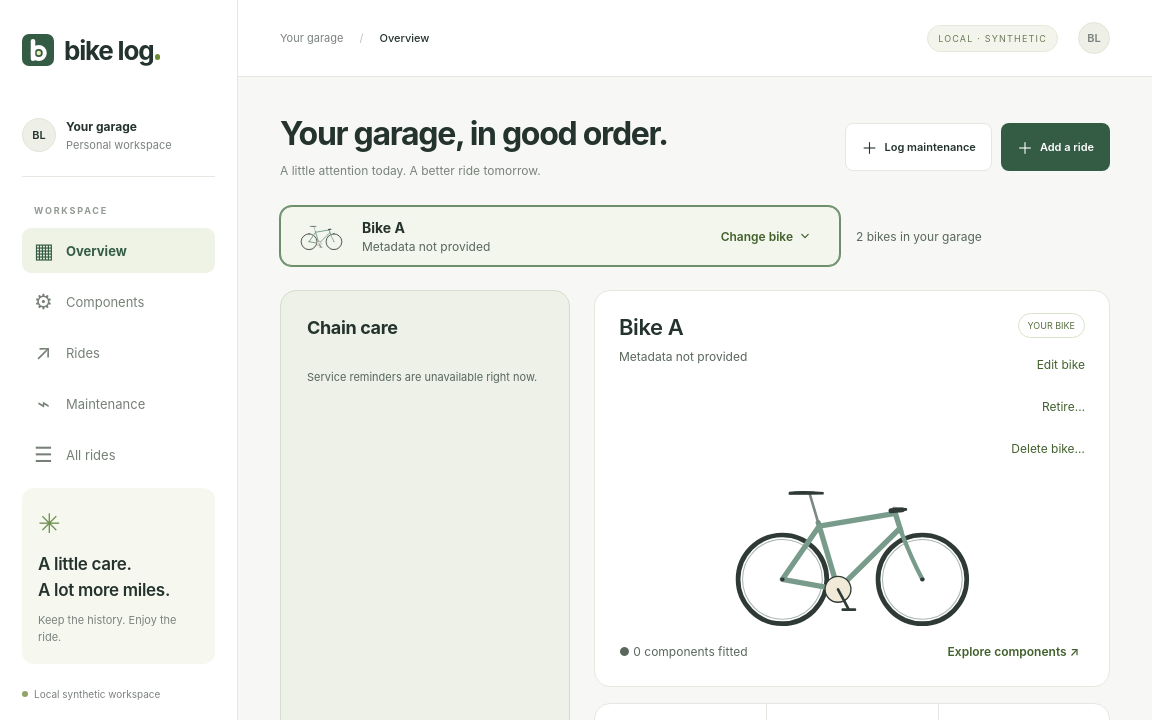
garage › dirtyNavigationRetainsFormUntilExplicitDiscard
The width and height of the screenshot is (1152, 720).
Expected: the heading "Bike A" is shown, x1=619 y1=314 x2=683 y2=340
Click the button "Bike A Metadata not provided Change bike" at point(322, 236), box x1=280 y1=206 x2=840 y2=266
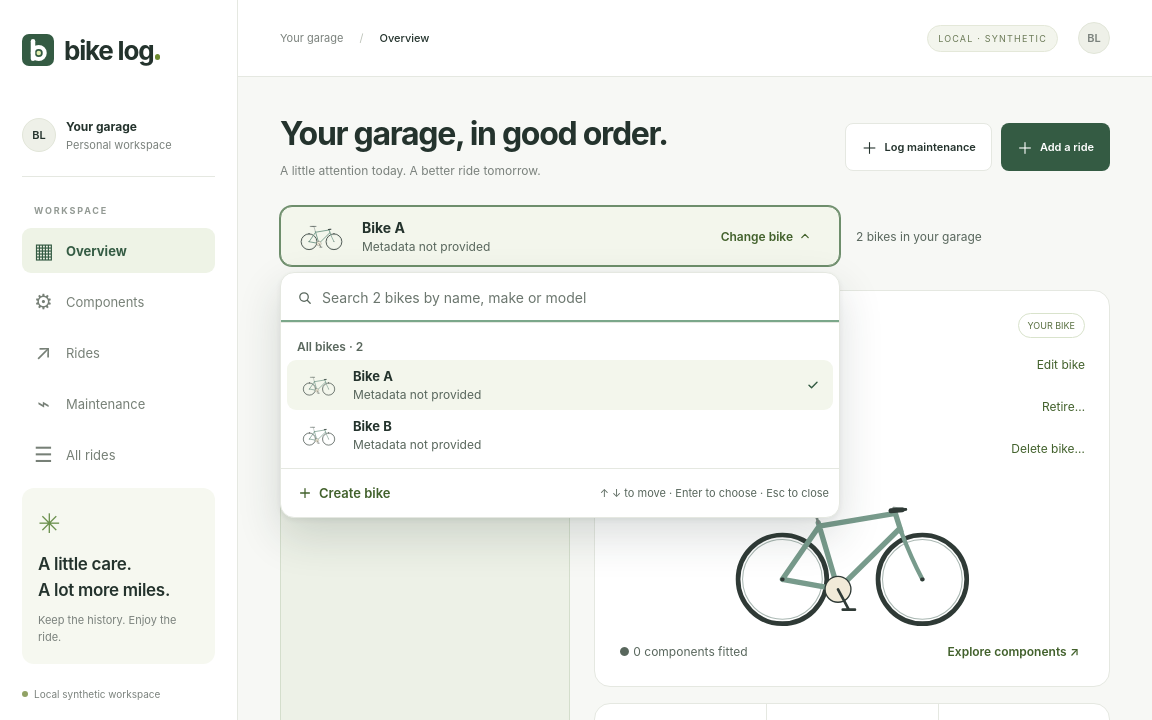
Click the button "Bike B Metadata not provided" at point(319, 435), box x1=287 y1=410 x2=833 y2=460
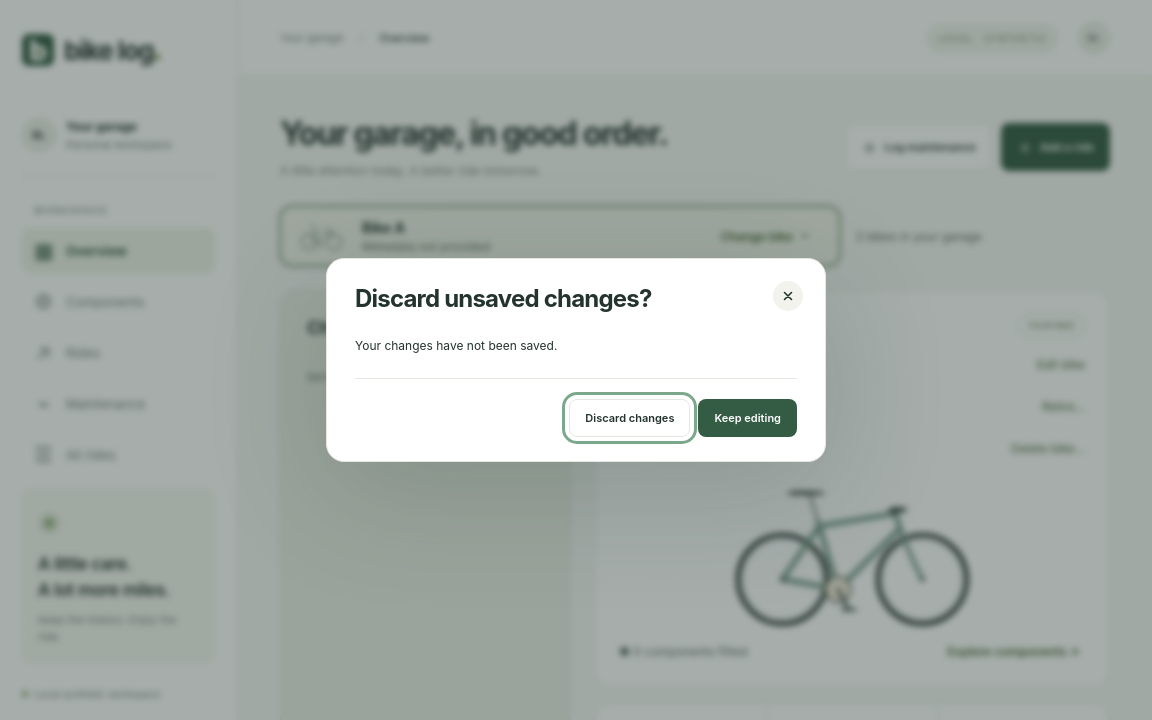
Expected: the dialog "Discard unsaved changes?" is shown, x1=326 y1=258 x2=826 y2=462
Click the button "Keep editing" at point(748, 418), box x1=698 y1=399 x2=797 y2=437
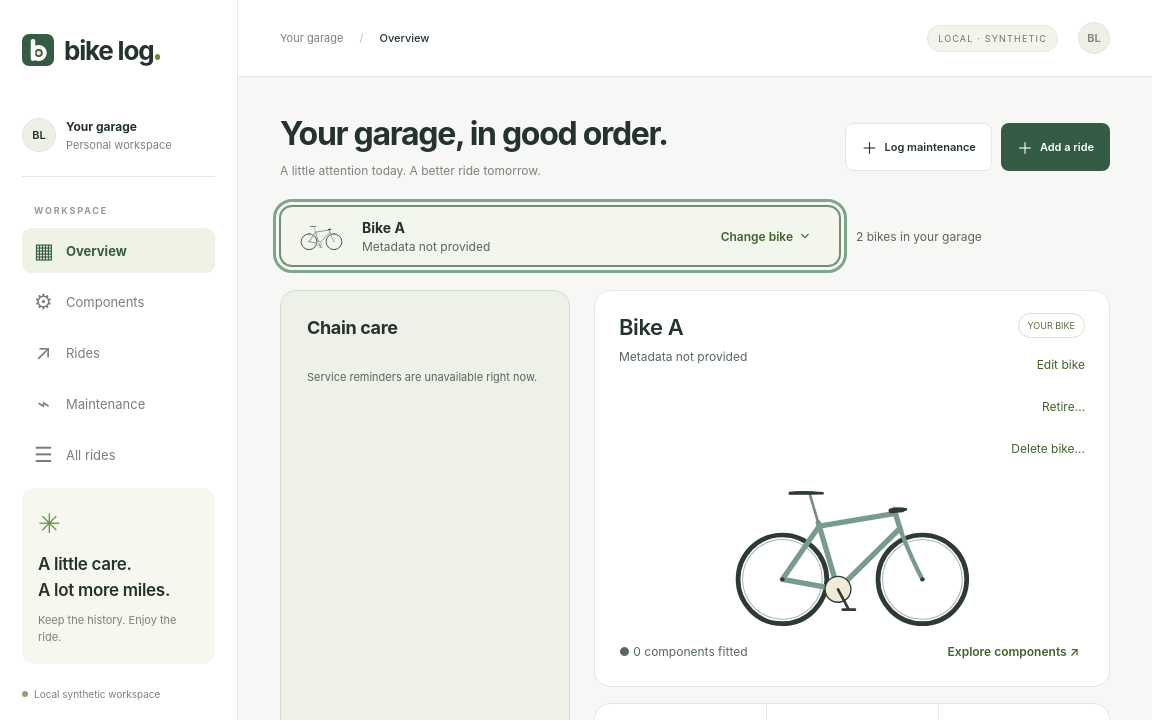
Expected: the heading "Bike A" is shown, x1=619 y1=314 x2=683 y2=340
Click the button "Bike A Metadata not provided Change bike" at point(322, 236), box x1=280 y1=206 x2=840 y2=266
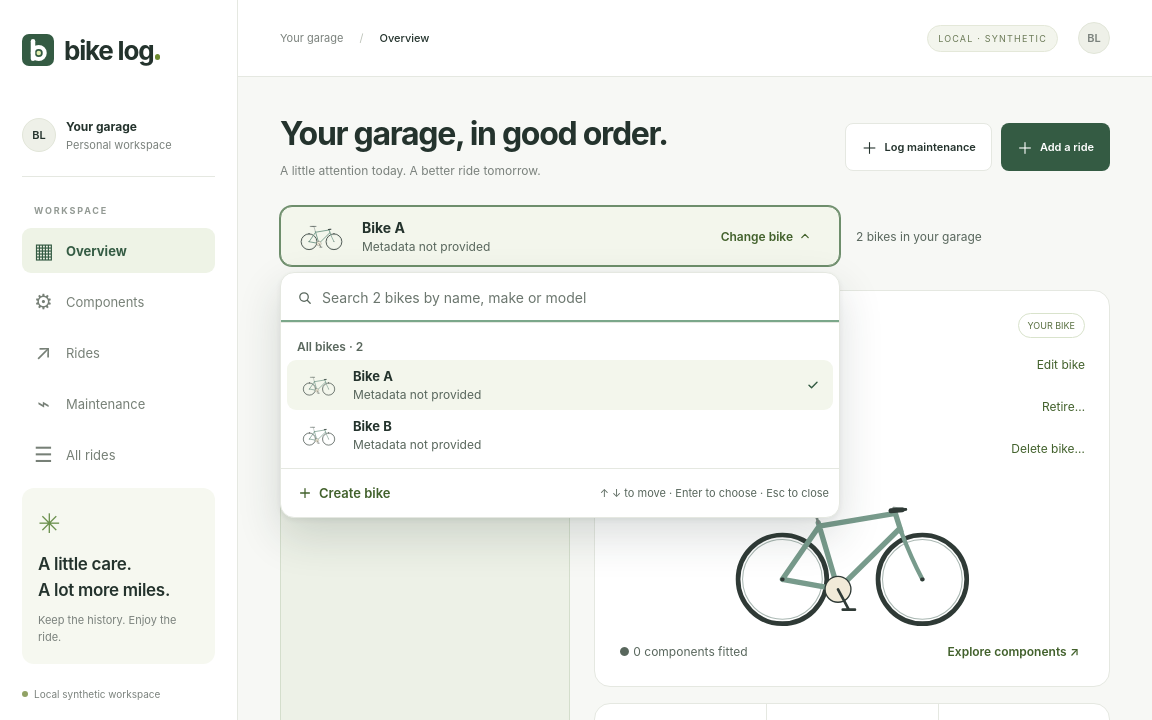
Click the button "Bike B Metadata not provided" at point(319, 435), box x1=287 y1=410 x2=833 y2=460
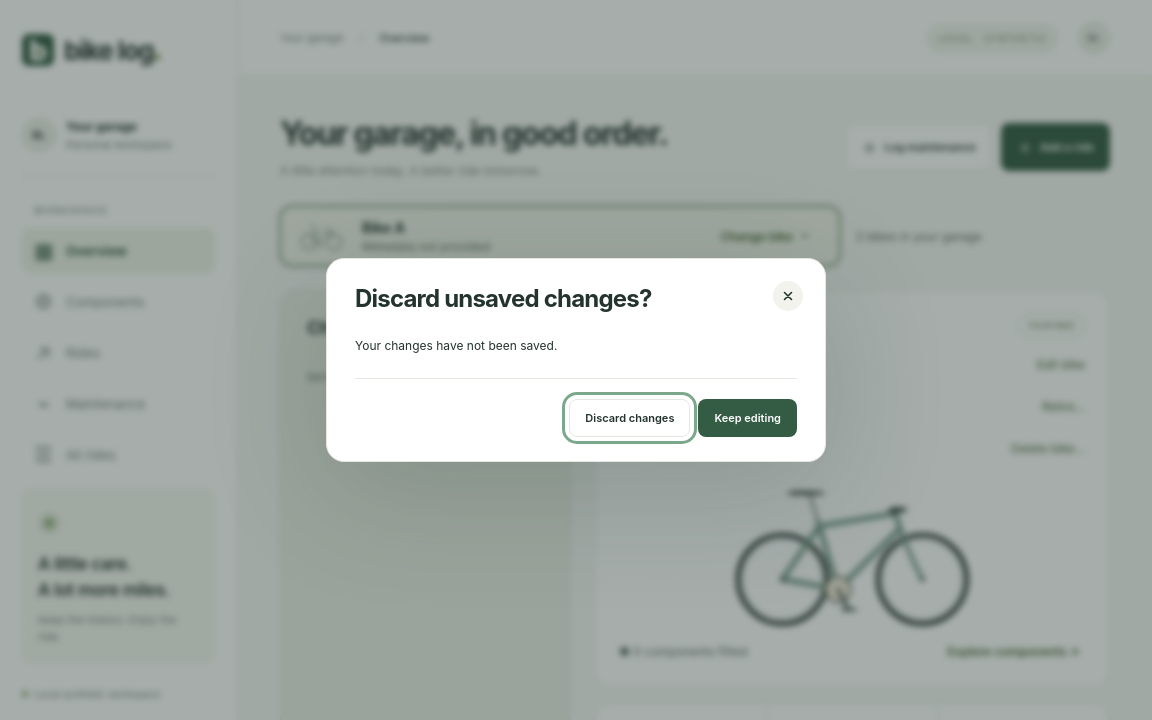
Click the button "Discard changes" at point(630, 418), box x1=569 y1=399 x2=690 y2=437
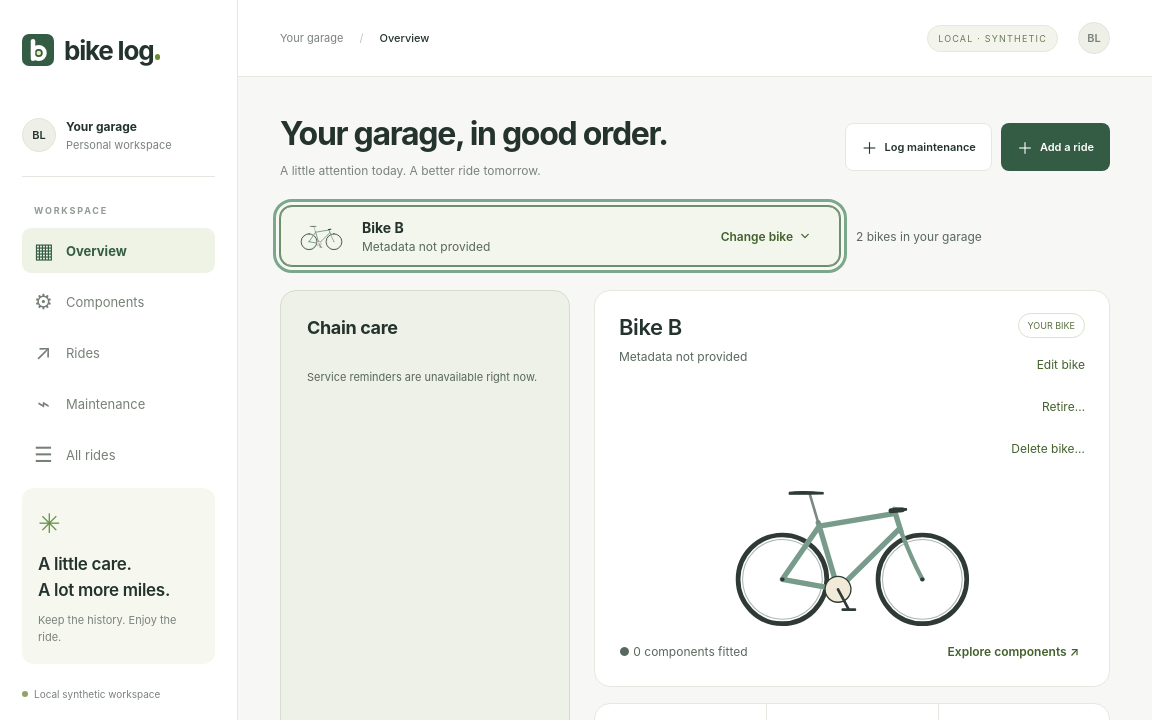
Expected: the heading "Bike B" is shown, x1=619 y1=314 x2=682 y2=340
